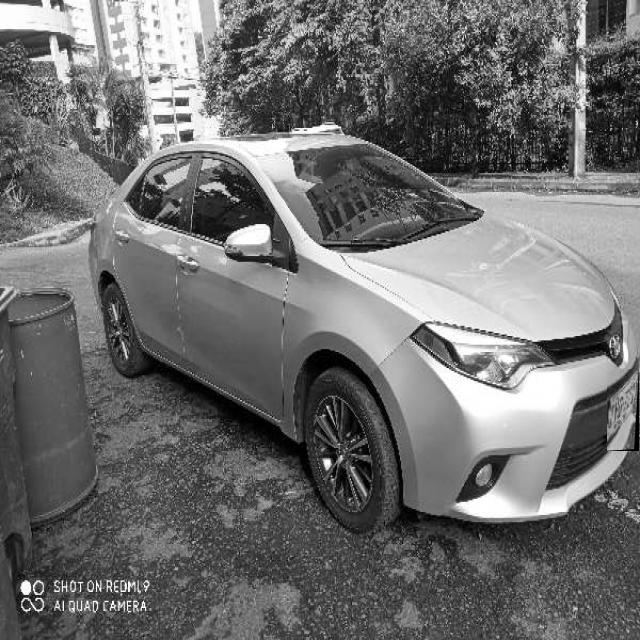plate: (607, 369, 638, 448)
